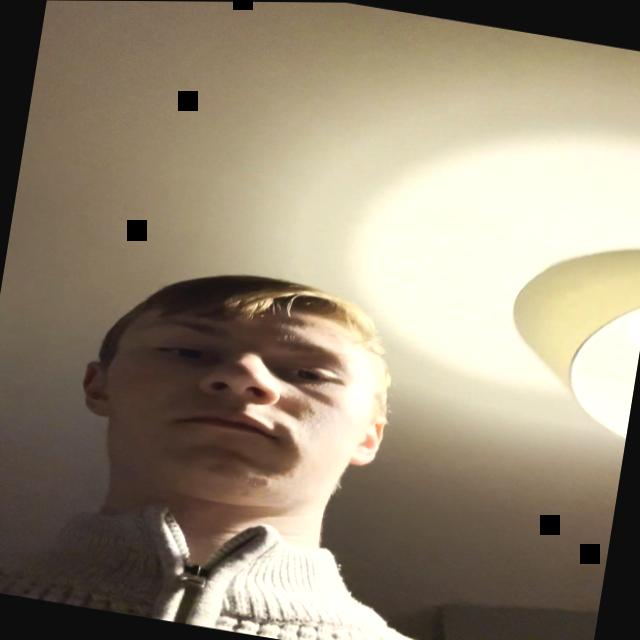NO-Mask: (64, 258, 402, 556)
